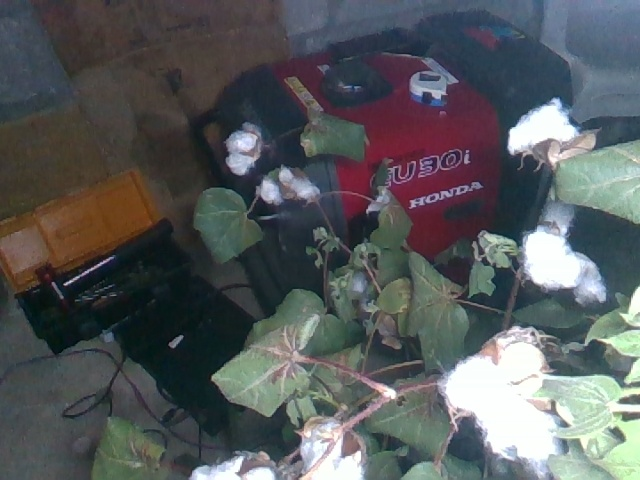cotton: (441, 324, 568, 466), (514, 225, 611, 311), (502, 93, 589, 158), (294, 412, 367, 480), (183, 447, 280, 480), (255, 163, 323, 207), (223, 117, 266, 179)
